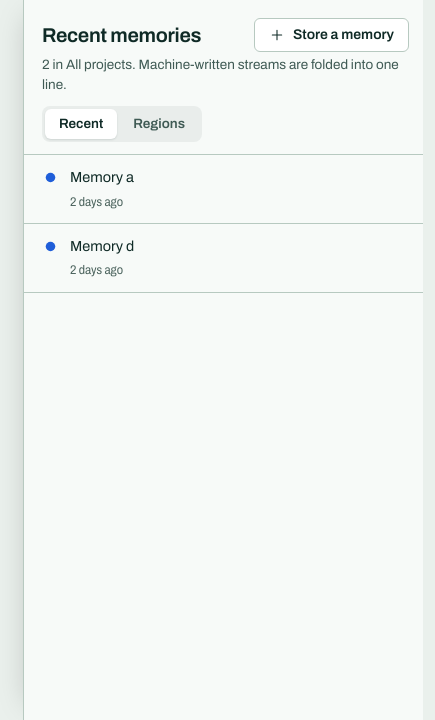
Scenario: MapSheet: Regions › switches back to Recent
The image size is (435, 720).
Click the button "Regions": (159, 124) [119,109,199,139]
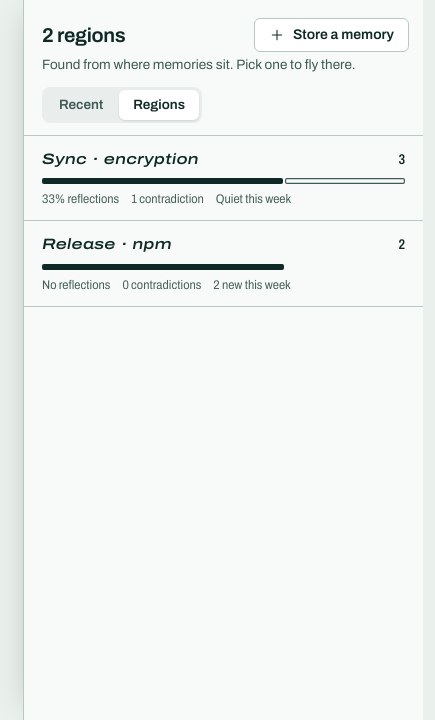
Click the button "Recent": (81, 105) [45,90,117,120]
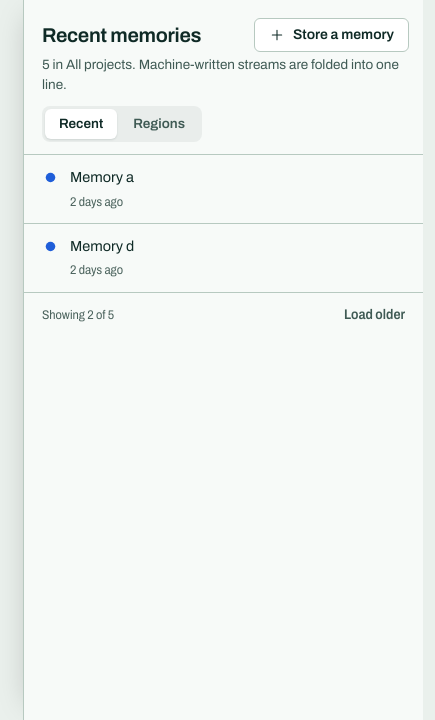
Result: the heading "Recent memories" is shown at [42,24,201,46]
